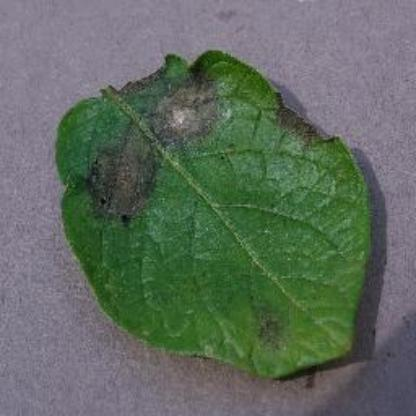Late-Blight: (52, 47, 376, 376)
